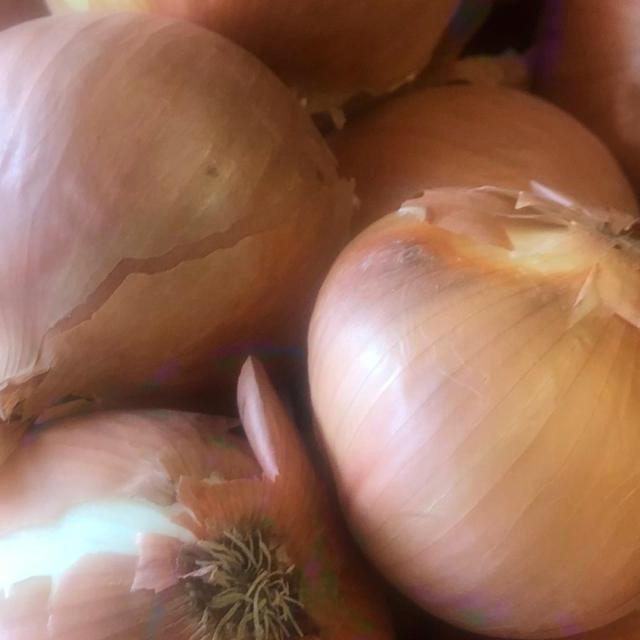onion: (0, 2, 367, 480), (290, 172, 640, 640), (0, 405, 410, 640), (0, 0, 482, 117)
